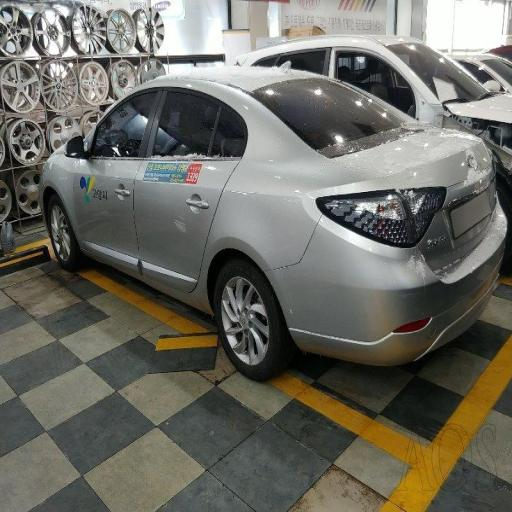dent: (330, 111, 500, 310)
scratch: (62, 180, 134, 266), (161, 185, 206, 253)
